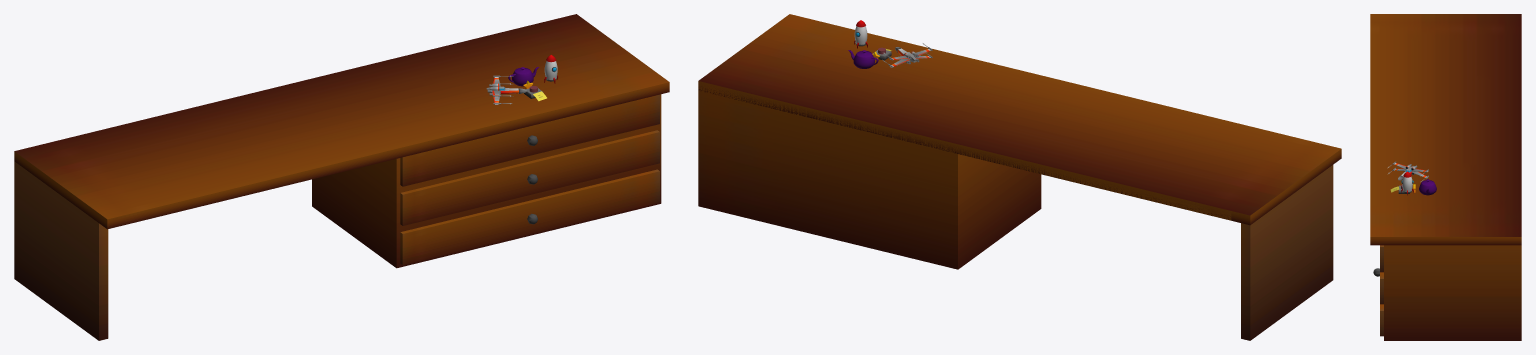
The model's file is YouTubeSecction.glb.
3 views of the same model, side by side, from view 1: azimuth 30°, elevation 25°; view 2: azimuth 150°, elevation 25°; view 3: azimuth 270°, elevation 25° (orthographic). The views are drawn at different scales.
Visible parts, largest first — view 1: Mesa, T65; view 2: Mesa; view 3: Mesa, T65, Teapot, Rocket.
Part boxes in pixels (x1,y1,x2,y2): Mesa: (14, 14, 669, 340); T65: (486, 75, 526, 104); Mesa: (698, 14, 1341, 340); Mesa: (1370, 14, 1521, 340); T65: (1388, 161, 1428, 181); Teapot: (1419, 179, 1436, 195); Rocket: (1401, 171, 1413, 195).
Bounding box in the file's own units: 118 × 32.41 × 33.83.
Materials: 3 (2 with a texture image).
